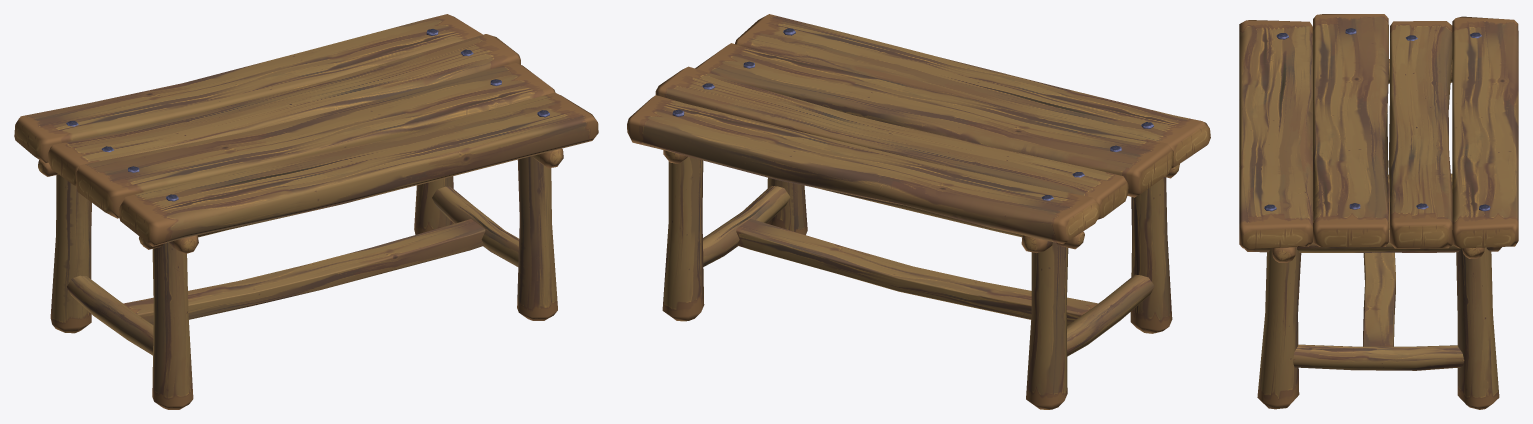
The model's file is SM_PROP_table_town_01.fbx.
The picture shows the model from 3 angles, left to right: view 1: azimuth 30°, elevation 25°; view 2: azimuth 150°, elevation 25°; view 3: azimuth 270°, elevation 25°; orthographic projection. The views are drawn at different scales.
Parts seen in each view (by area): view 1: SM_PROP_table_town_01_LOD0; view 2: SM_PROP_table_town_01_LOD0; view 3: SM_PROP_table_town_01_LOD0.
Boxes of the visible parts, x1,y1,x2,y2 form: SM_PROP_table_town_01_LOD0: [14, 14, 598, 409]; SM_PROP_table_town_01_LOD0: [627, 14, 1210, 409]; SM_PROP_table_town_01_LOD0: [1239, 14, 1518, 409].
Size of what is drawn, in the model's own units: 188 by 83.7 by 104.
